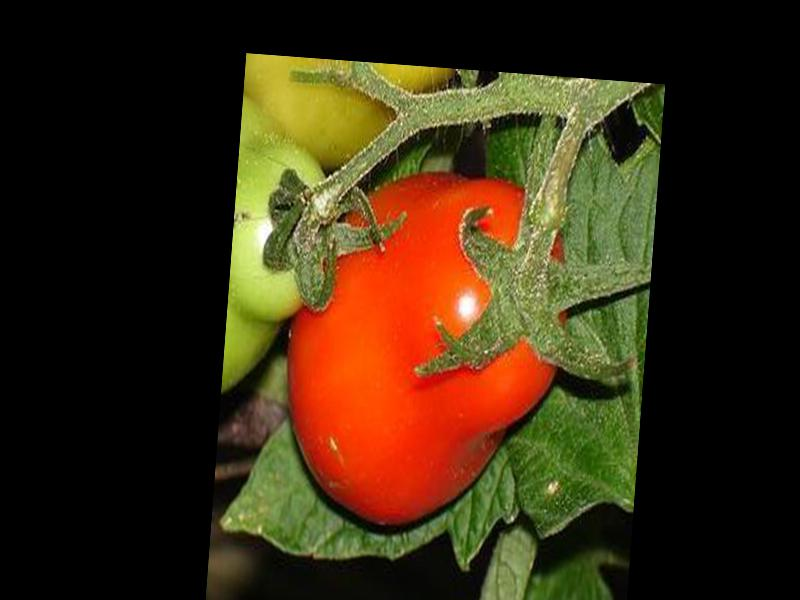Tomato: (276, 165, 575, 538)
